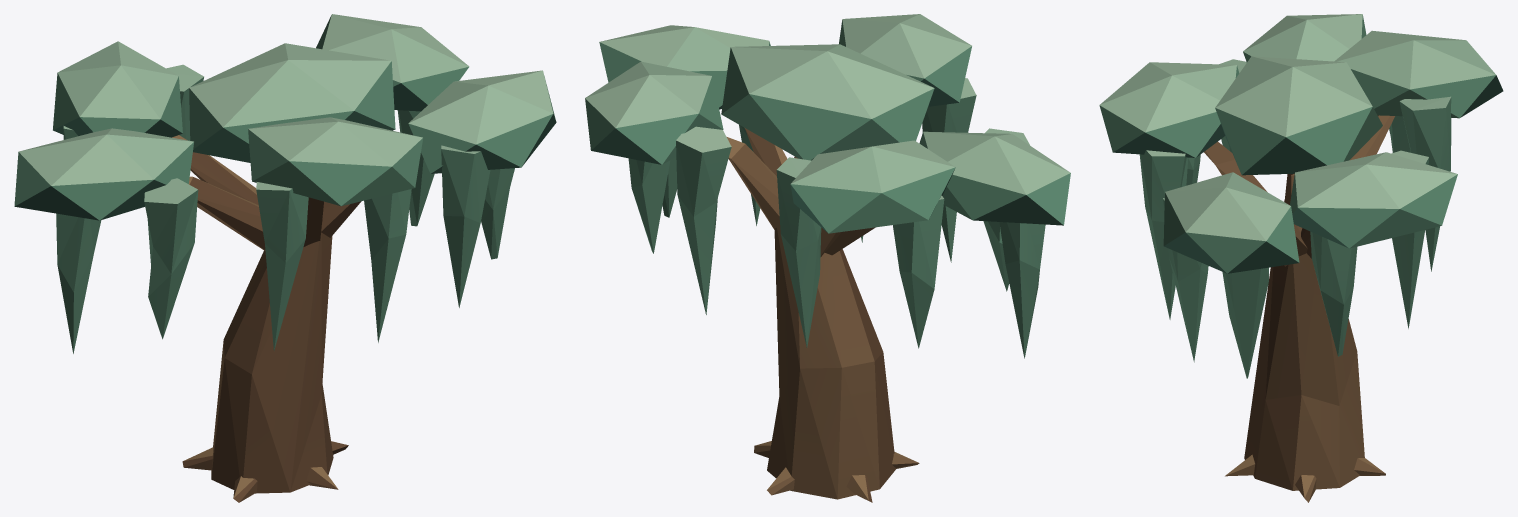
3 renders of one model, left to right at view 1: azimuth 30°, elevation 25°; view 2: azimuth 150°, elevation 25°; view 3: azimuth 270°, elevation 25°, orthographic.
Parts seen in each view (by area): view 1: WK_Tree_Willow_RiverMist_LOD1_Balanced; view 2: WK_Tree_Willow_RiverMist_LOD1_Balanced; view 3: WK_Tree_Willow_RiverMist_LOD1_Balanced.
Boxes of the visible parts, x1,y1,x2,y2 form: WK_Tree_Willow_RiverMist_LOD1_Balanced: (14, 14, 556, 502); WK_Tree_Willow_RiverMist_LOD1_Balanced: (585, 14, 1070, 502); WK_Tree_Willow_RiverMist_LOD1_Balanced: (1099, 14, 1503, 502).
Size of the model in its own units: 6.1 by 4.9 by 4.37.
